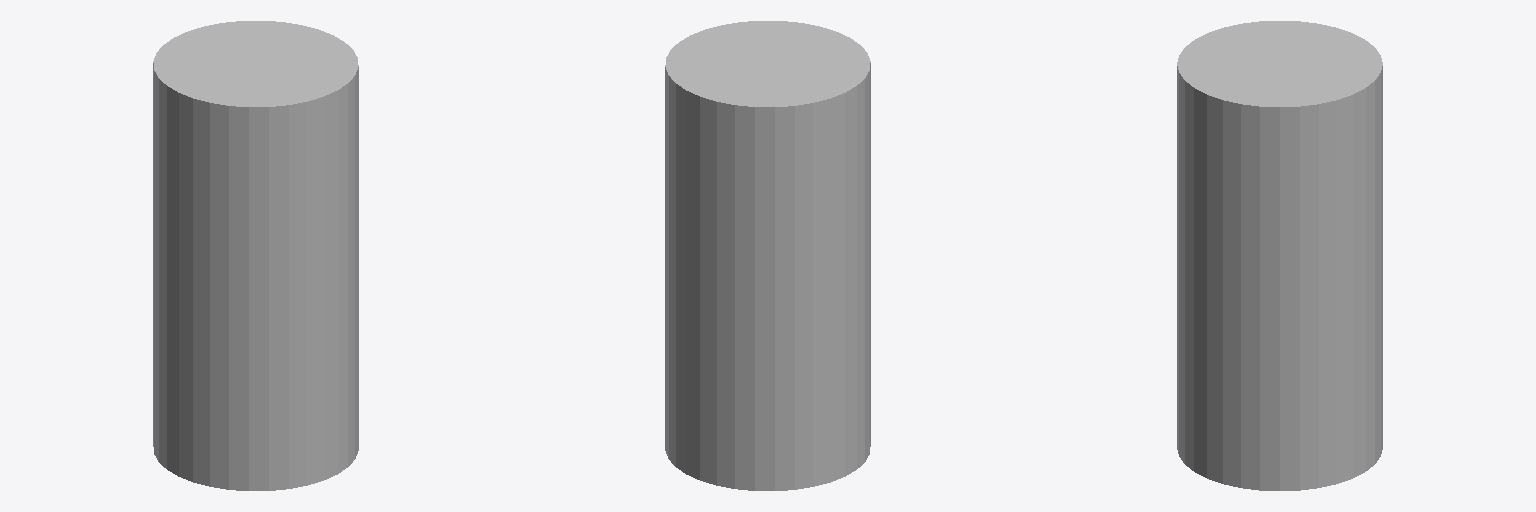
File: FuelTank_T1.obj
3 views of the same model, side by side, from view 1: azimuth 30°, elevation 25°; view 2: azimuth 150°, elevation 25°; view 3: azimuth 270°, elevation 25° (orthographic).
Visible parts, largest first — view 1: Cylinder; view 2: Cylinder; view 3: Cylinder.
Part boxes in pixels (x1,y1,x2,y2): Cylinder: (153,21,358,490); Cylinder: (665,21,870,490); Cylinder: (1177,21,1382,490).
Size of the model in its own units: 2 by 4.12 by 2.